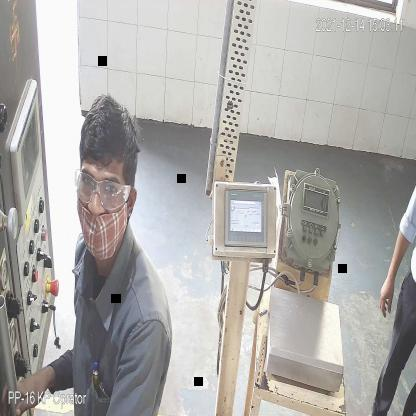goggles: (77, 166, 132, 210)
